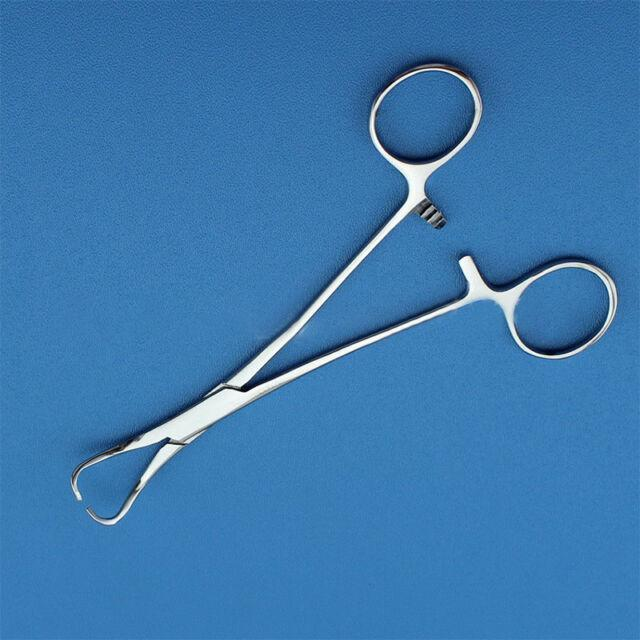Towel_clip: (67, 54, 625, 534)
